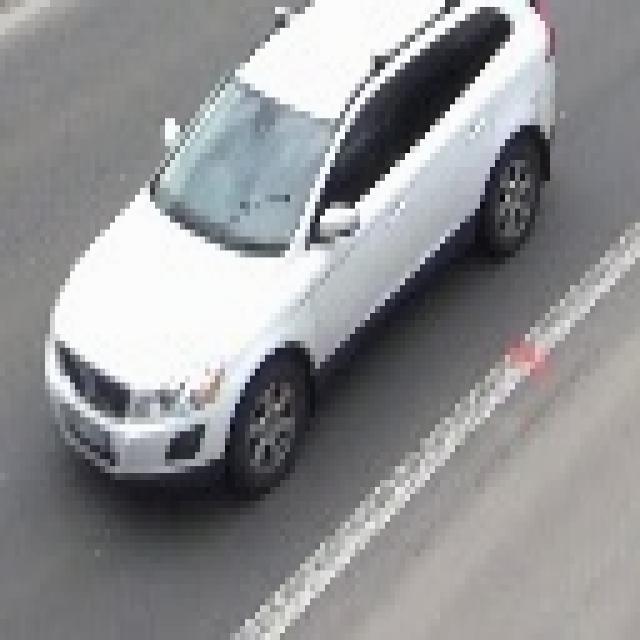SUV: (62, 0, 545, 472)
